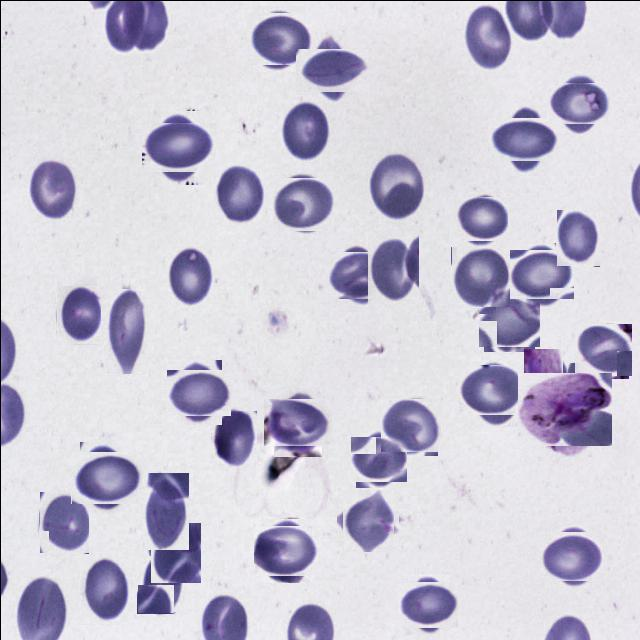difficult: (522, 367, 606, 451)
red blood cell: (464, 358, 526, 421), (74, 446, 136, 508), (148, 116, 210, 178), (368, 152, 423, 220), (366, 234, 418, 304), (462, 1, 513, 72), (248, 8, 308, 68), (450, 246, 509, 307), (142, 472, 188, 549), (105, 288, 145, 374), (78, 556, 128, 624), (274, 174, 332, 232), (256, 521, 314, 579), (495, 110, 553, 168), (268, 393, 326, 451), (512, 245, 570, 302), (303, 41, 361, 98), (382, 396, 438, 454), (542, 528, 600, 584), (338, 492, 396, 548), (212, 163, 264, 225), (280, 101, 331, 164), (38, 491, 88, 553), (481, 292, 536, 348), (170, 364, 226, 419), (522, 348, 566, 418), (574, 322, 630, 376), (150, 522, 200, 582), (28, 158, 76, 220), (331, 248, 385, 302), (399, 577, 454, 630), (136, 554, 186, 612), (166, 244, 212, 304), (553, 77, 605, 129), (55, 285, 100, 344), (352, 433, 403, 484), (210, 410, 256, 466), (555, 209, 599, 266), (456, 194, 504, 242)
